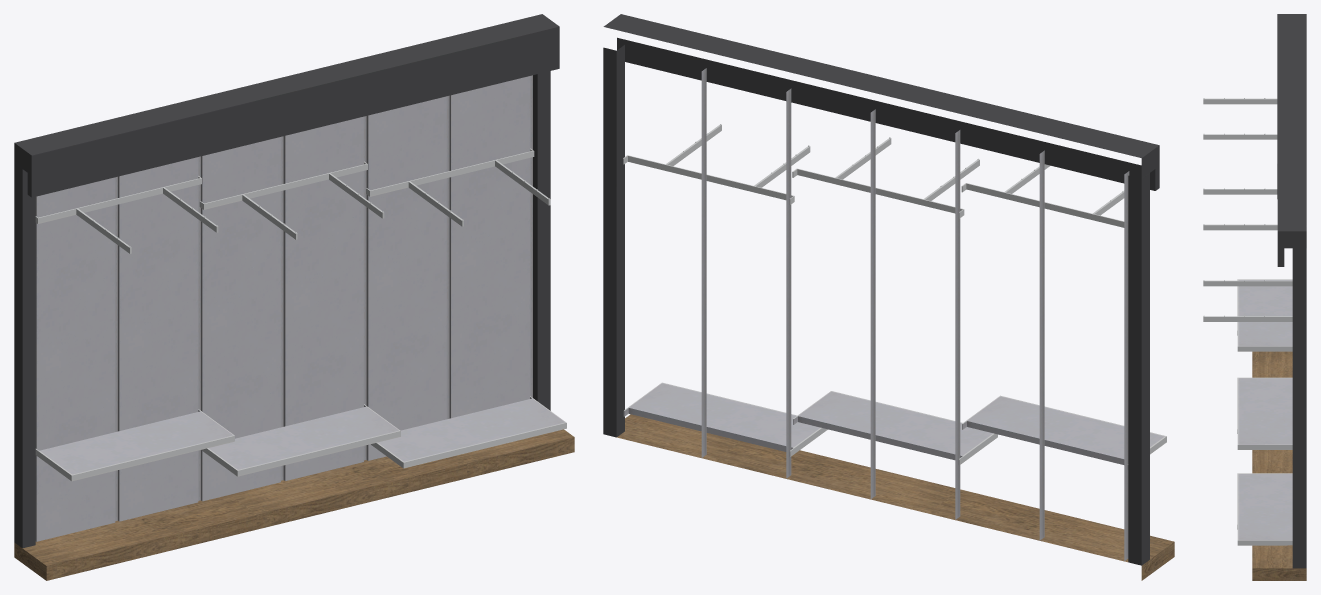
Rendered from SM_Rack_04.glb.
3 renders of one model, left to right at view 1: azimuth 30°, elevation 25°; view 2: azimuth 150°, elevation 25°; view 3: azimuth 270°, elevation 25°, orthographic. The views are drawn at different scales.
Parts seen in each view (by area): view 1: SM_Rack_04; view 2: SM_Rack_04; view 3: SM_Rack_04.
Part boxes in pixels (x1=…): SM_Rack_04: x1=14, y1=14, x2=574, y2=580; SM_Rack_04: x1=603, y1=14, x2=1174, y2=580; SM_Rack_04: x1=1203, y1=14, x2=1306, y2=580.
Bounding box in the file's own units: 3.79 × 2.84 × 0.7629.
1 material, 1 textured.
